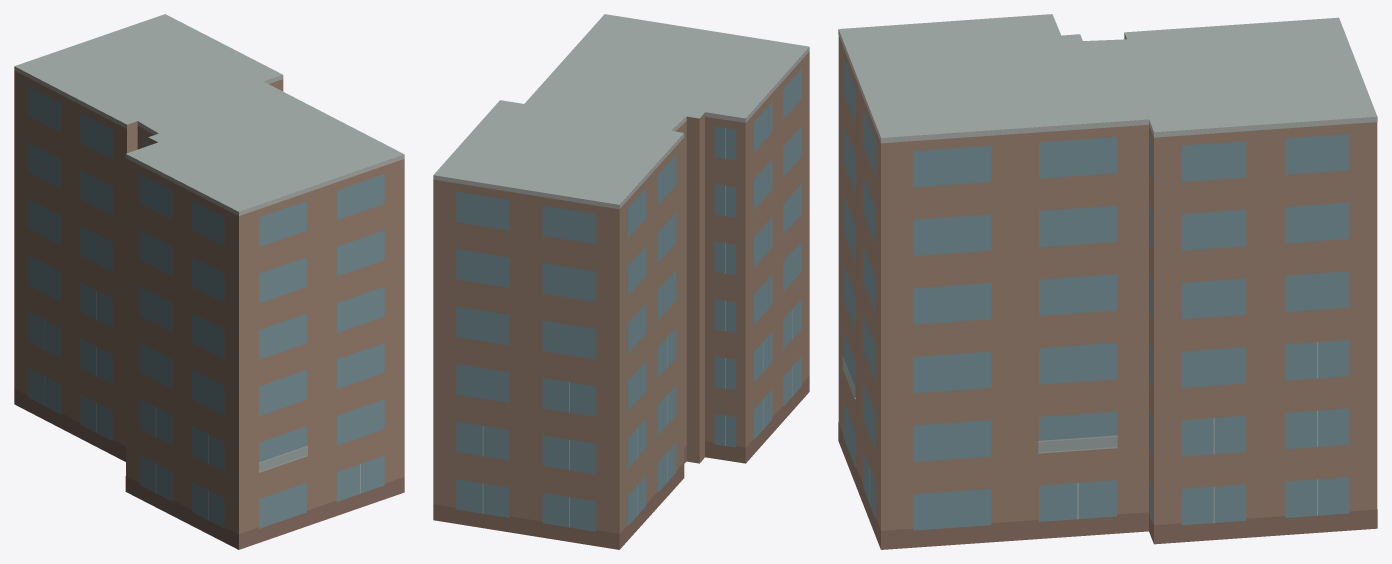
Rendered from survey-upis-32957690.glb.
The picture shows the model from 3 angles, left to right: view 1: azimuth 30°, elevation 25°; view 2: azimuth 150°, elevation 25°; view 3: azimuth 270°, elevation 25°; orthographic projection. The views are drawn at different scales.
Parts seen in each view (by area): view 1: survey-upis-32957690.tmp; view 2: survey-upis-32957690.tmp; view 3: survey-upis-32957690.tmp.
Boxes of the visible parts, x1=… form: survey-upis-32957690.tmp: x1=14, y1=14, x2=404, y2=549; survey-upis-32957690.tmp: x1=433, y1=14, x2=809, y2=549; survey-upis-32957690.tmp: x1=838, y1=14, x2=1377, y2=549.
Bounding box in the file's own units: 12.28 × 19 × 22.55.
